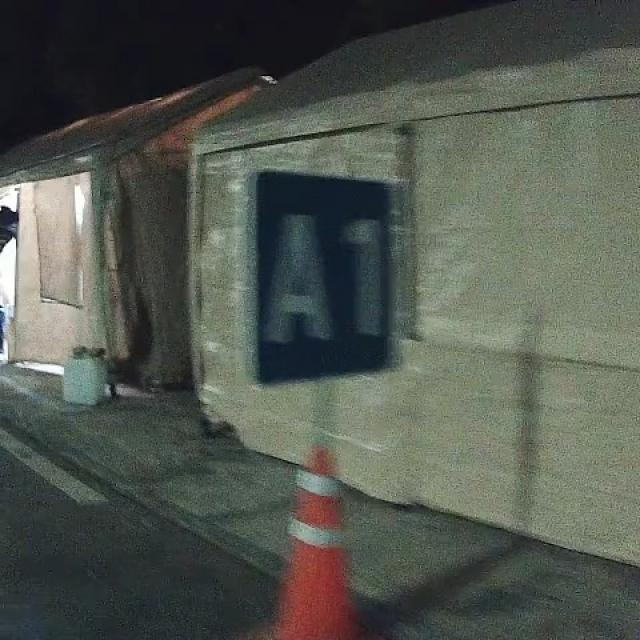a1: (243, 167, 404, 390)
